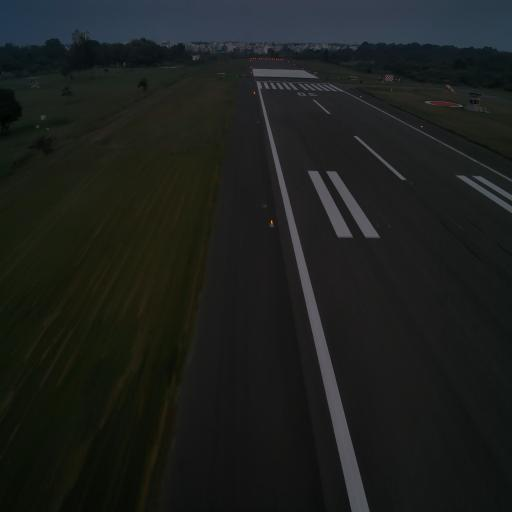off: (387, 220, 392, 232), (409, 180, 414, 188), (376, 222, 380, 230), (257, 120, 259, 124)
on: (268, 217, 274, 229), (420, 123, 424, 129), (342, 122, 344, 126), (332, 113, 333, 116)
